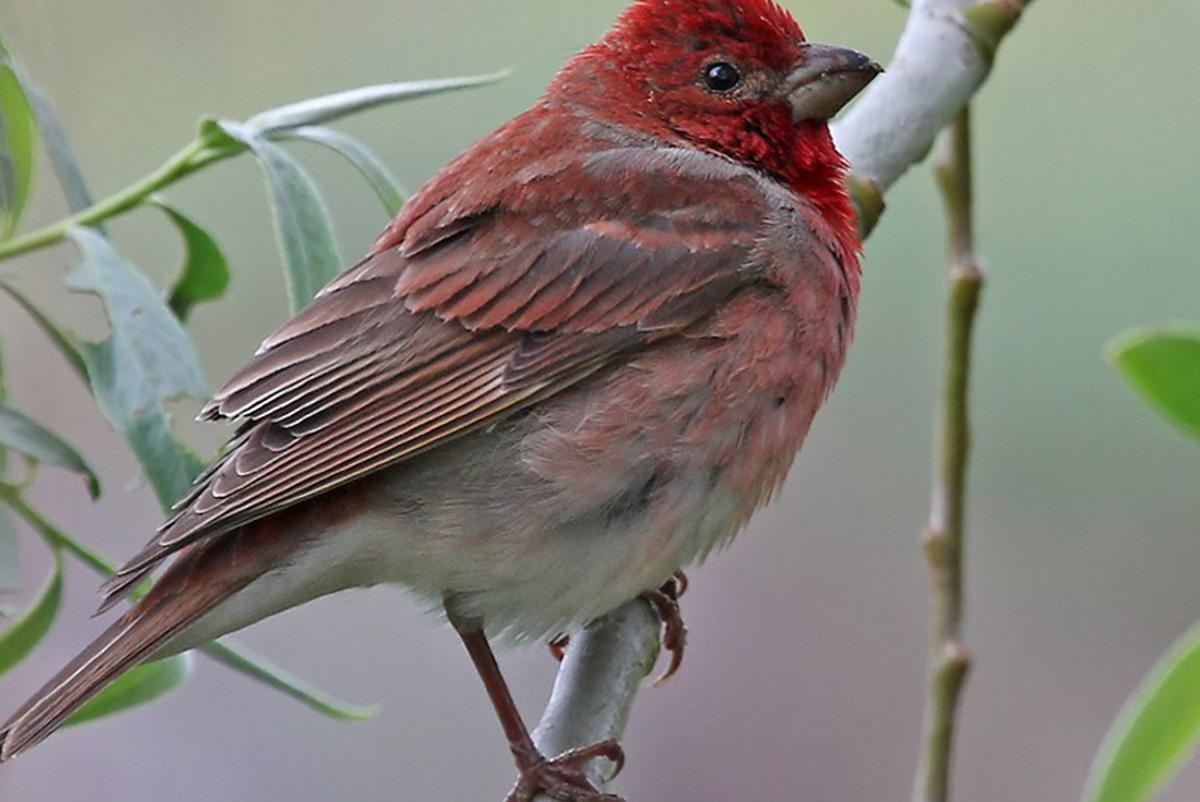rosefinch: (144, 1, 900, 665)
